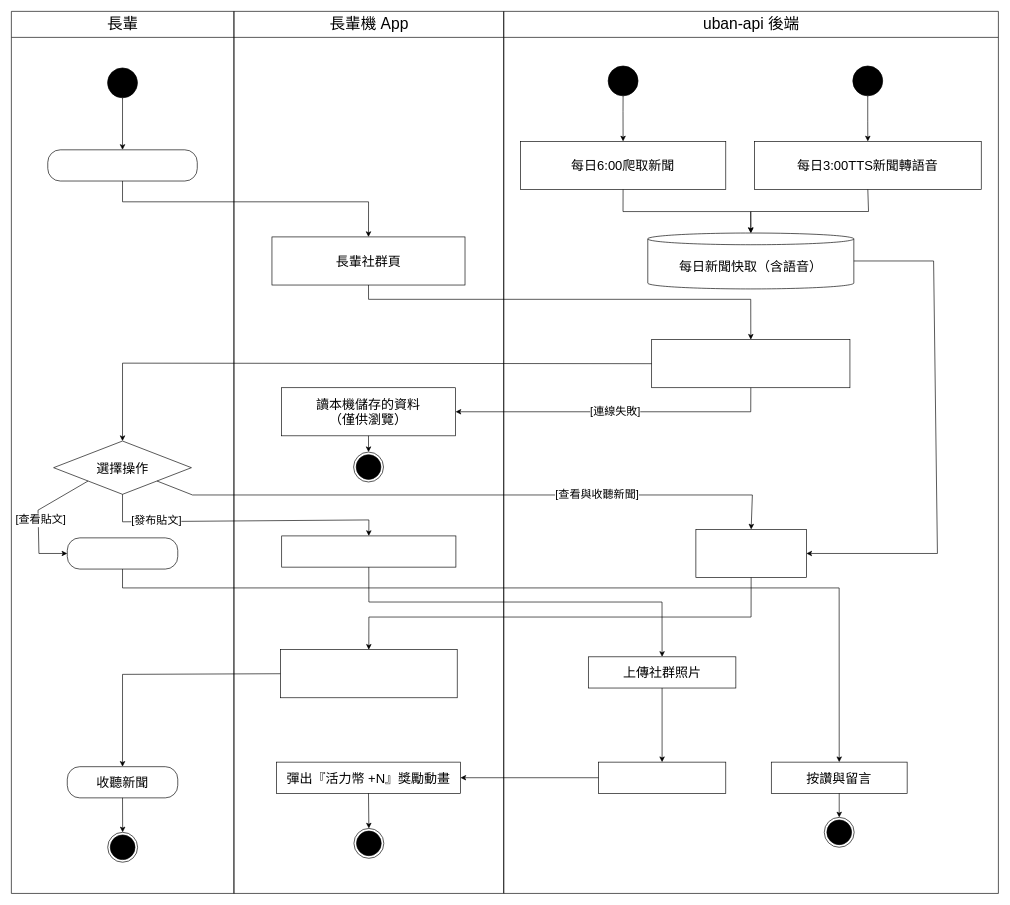
Image size: 1010x905. Some labels were removed from this diagram. Each missing label, with the centre of its shape:
拍照或選照片: (x=368, y=551)
播放新聞語音並同步顯示字幕: (x=368, y=673)
瀏覽並按讚留言: (x=122, y=553)
當日新聞 （11種分類）: (x=750, y=553)
發佈新貼文: (x=662, y=777)
讀取社群貼文: (x=750, y=363)
點選底部『社群』分頁: (x=122, y=165)
